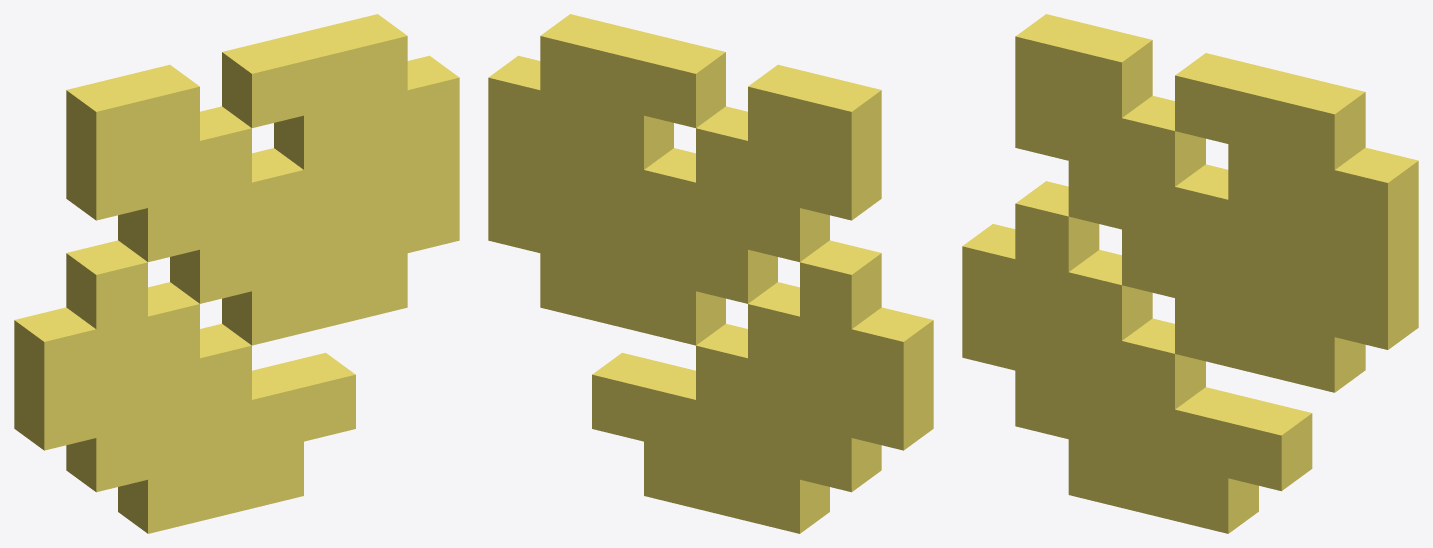
Rendered from Hauberk-Yellow.vox.obj.
The picture shows the model from 3 angles, left to right: view 1: azimuth 30°, elevation 25°; view 2: azimuth 150°, elevation 25°; view 3: azimuth 330°, elevation 25°; orthographic projection. The views are drawn at different scales.
Size of the model in its own units: 0.8 by 0.8 by 0.1.
1 material, 1 textured.
